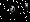person: (10, 4, 19, 17), (21, 5, 28, 14)
